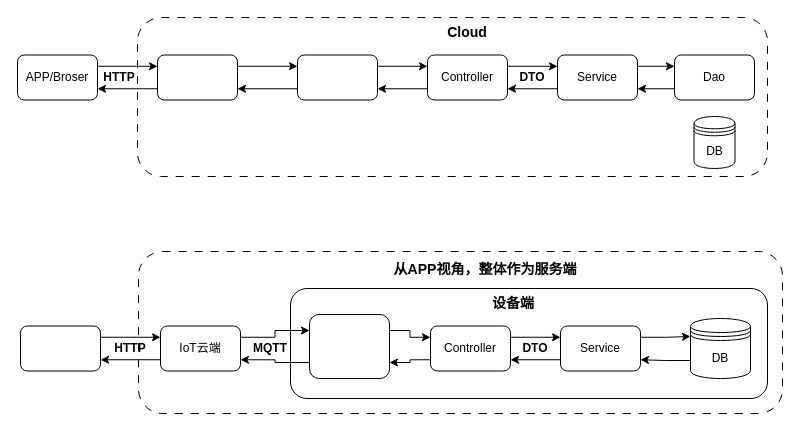
Some shapes in this 800 by 431 pixel diagram are drawn without their labels. Each missing label, with the box of its shape:
APP: (20, 325, 100, 371)
Servlet: (296, 54, 378, 100)
Tomcat: (156, 54, 238, 100)
协议解析， 用户接口封装: (308, 314, 390, 378)
